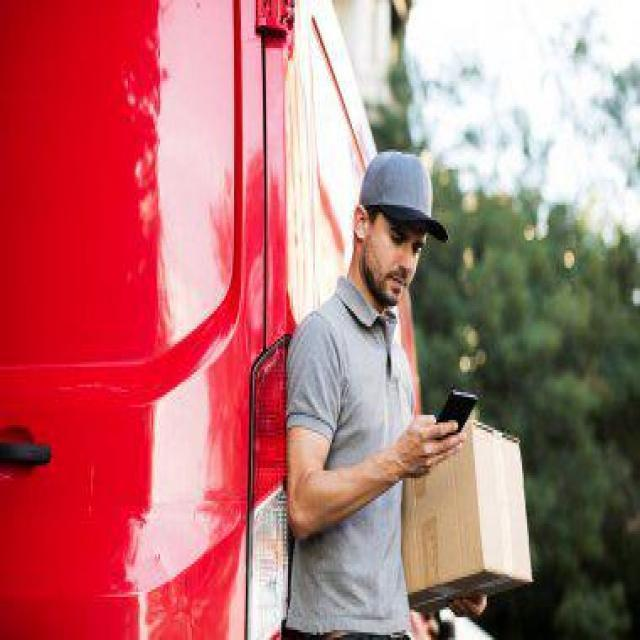box: (399, 419, 537, 612)
